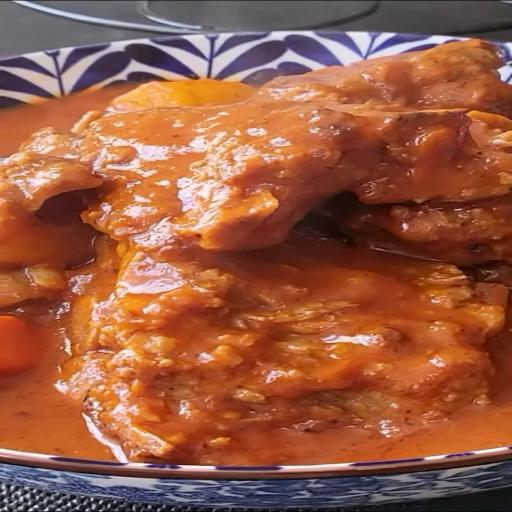pork caldereta: (0, 22, 511, 448)
